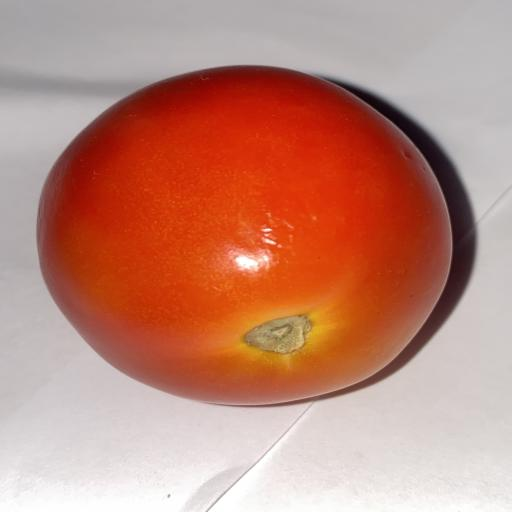overipe: (38, 66, 451, 404)
